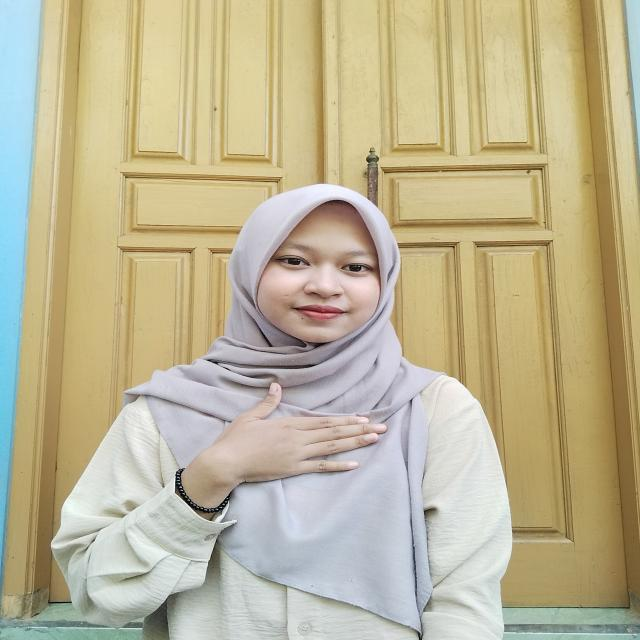tolong: (171, 390, 428, 533)
